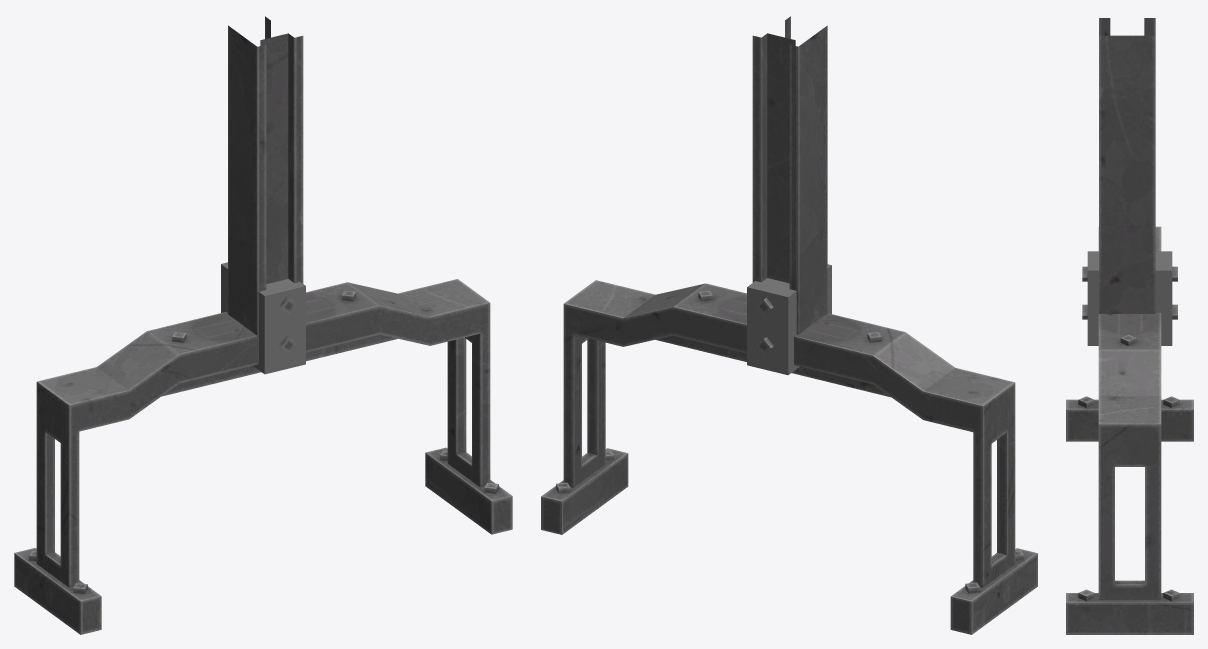
The model's file is roller_to_roller_middle.glb.
The picture shows the model from 3 angles, left to right: view 1: azimuth 30°, elevation 25°; view 2: azimuth 150°, elevation 25°; view 3: azimuth 270°, elevation 25°; orthographic projection. The views are drawn at different scales.
Visible parts, largest first — view 1: roller_to_roller_middle; view 2: roller_to_roller_middle; view 3: roller_to_roller_middle.
Boxes of the visible parts, x1,y1,x2,y2 form: roller_to_roller_middle: [14, 16, 512, 634]; roller_to_roller_middle: [541, 16, 1037, 634]; roller_to_roller_middle: [1066, 18, 1193, 634].
Bounding box in the file's own units: 0.9507 × 1.11 × 0.2531.
1 material, 1 textured.
